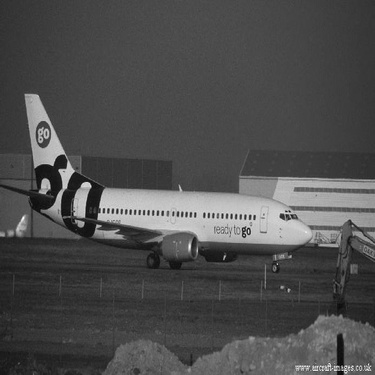airplane: (5, 82, 321, 271), (1, 215, 31, 244)
